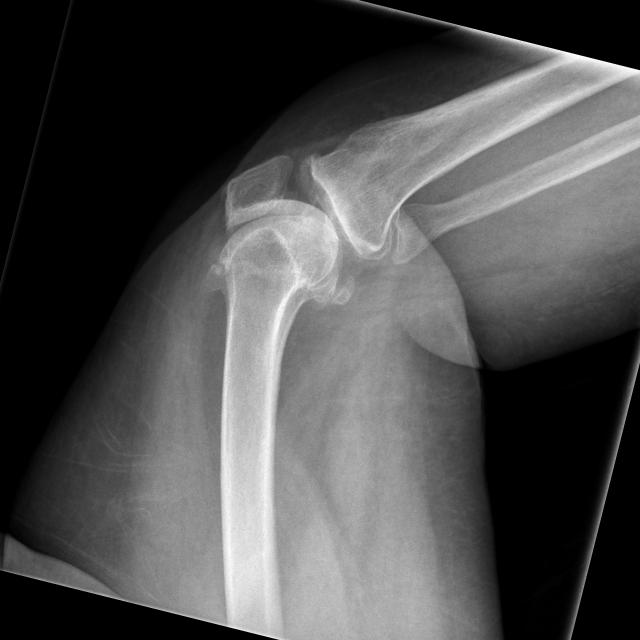Knee: (189, 116, 420, 334)
